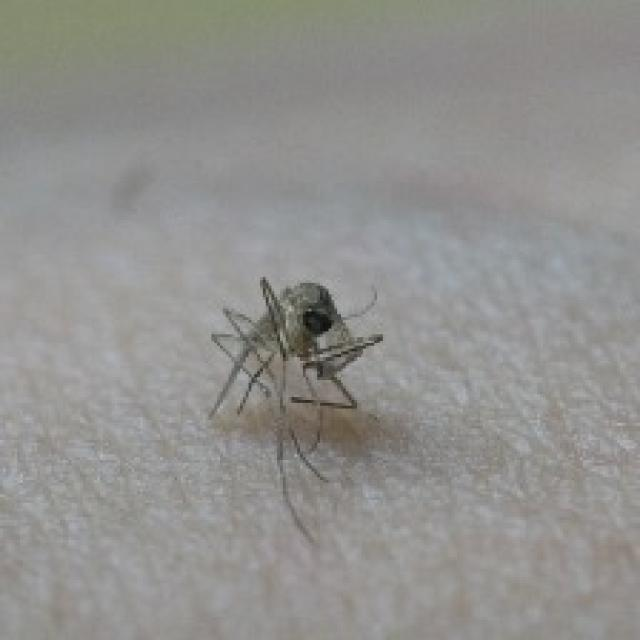culex: (206, 271, 383, 543)
